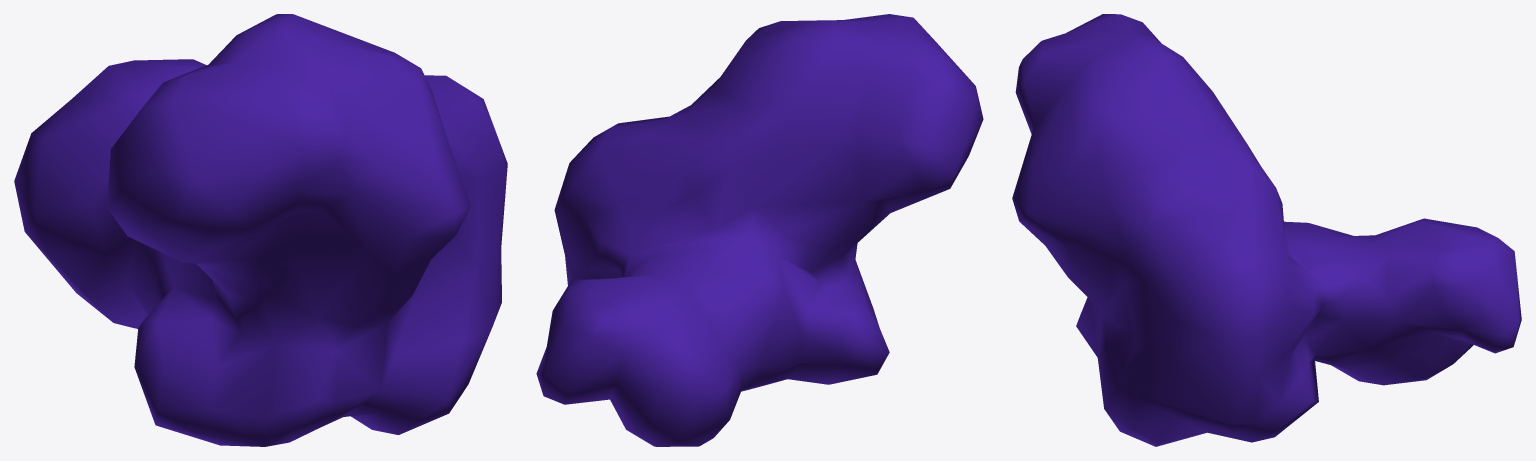
Rendered from HIV1_VIF_Modbase_0_1_0.dae.
3 renders of one model, left to right at view 1: azimuth 30°, elevation 25°; view 2: azimuth 150°, elevation 25°; view 3: azimuth 270°, elevation 25°, orthographic. The views are drawn at different scales.
Visible parts, largest first — view 1: CoarseMS_ModBase_VIF_bad; view 2: CoarseMS_ModBase_VIF_bad; view 3: CoarseMS_ModBase_VIF_bad.
Boxes of the visible parts, box(x1,y1,x2,y2) form: CoarseMS_ModBase_VIF_bad: box(14, 14, 507, 446); CoarseMS_ModBase_VIF_bad: box(536, 14, 983, 446); CoarseMS_ModBase_VIF_bad: box(1012, 14, 1521, 446).
Bounding box in the file's own units: 49.77 × 46.84 × 62.37.
